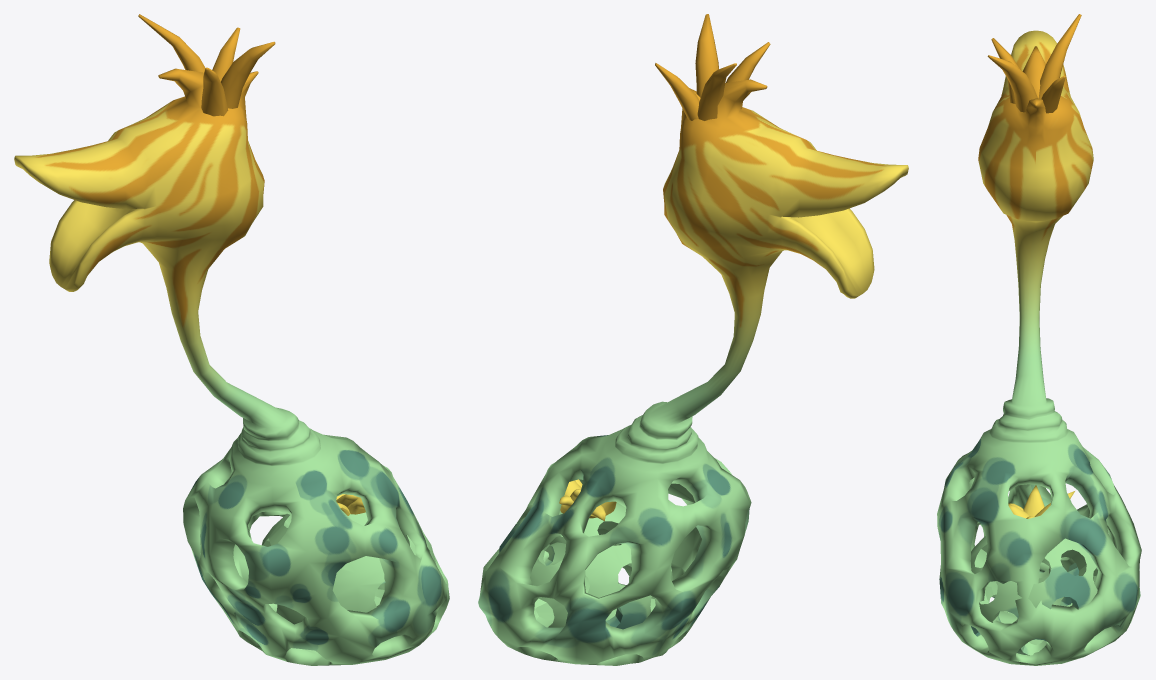
Rendered from 3D_AN_TestRegion_Bush_FomoFungi_V1.fbx.
The picture shows the model from 3 angles, left to right: view 1: azimuth 30°, elevation 25°; view 2: azimuth 150°, elevation 25°; view 3: azimuth 270°, elevation 25°; orthographic projection. The views are drawn at different scales.
Parts seen in each view (by area): view 1: FomoFungi, FomoFungi_Sprout; view 2: FomoFungi, FomoFungi_Sprout; view 3: FomoFungi, FomoFungi_Sprout.
Boxes of the visible parts, x1,y1,x2,y2 form: FomoFungi: (14, 14, 449, 665); FomoFungi_Sprout: (262, 494, 435, 624); FomoFungi: (478, 14, 908, 665); FomoFungi_Sprout: (499, 479, 672, 629); FomoFungi: (937, 14, 1141, 665); FomoFungi_Sprout: (970, 485, 1097, 655).
Size of what is drawn, in the model's own units: 73.34 by 109 by 36.66.
